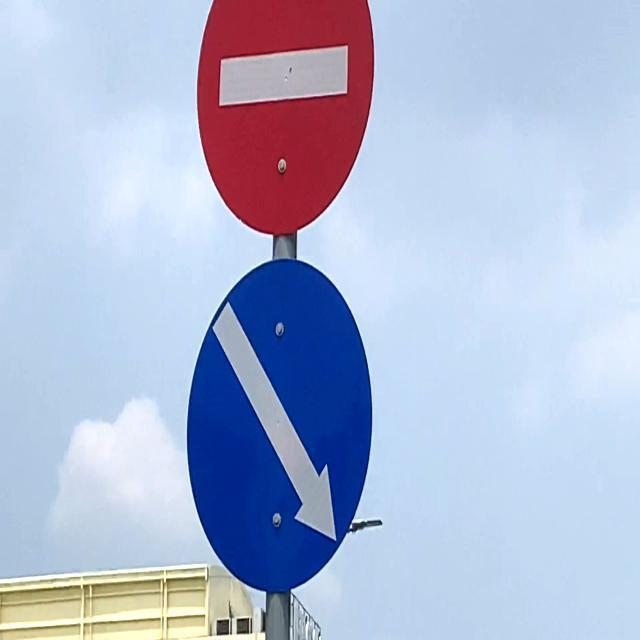102-cam-di-nguoc-chieu: (194, 1, 380, 235)
302a-huong-phai-di-vong-chuong-ngai-vat-1: (186, 261, 374, 591)
